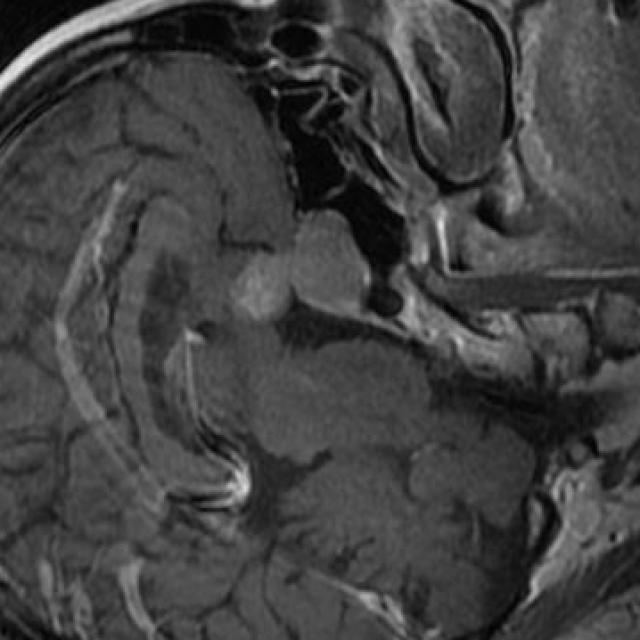pituitary: (232, 209, 367, 321)
